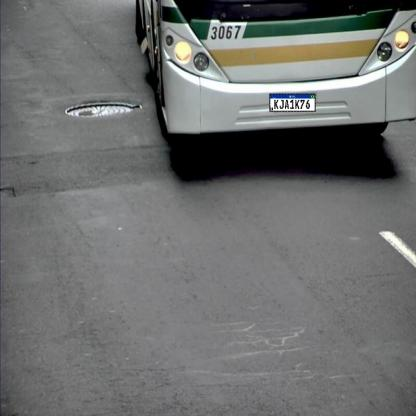PlacaM: (269, 94, 316, 112)
